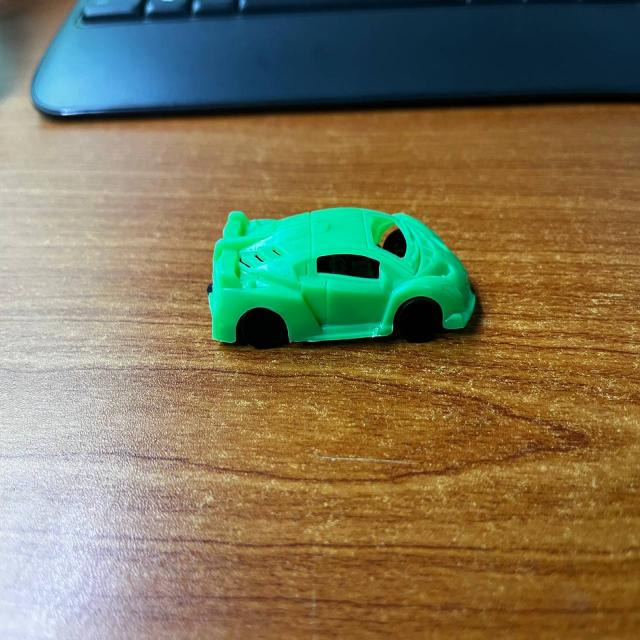car: (190, 196, 480, 358)
